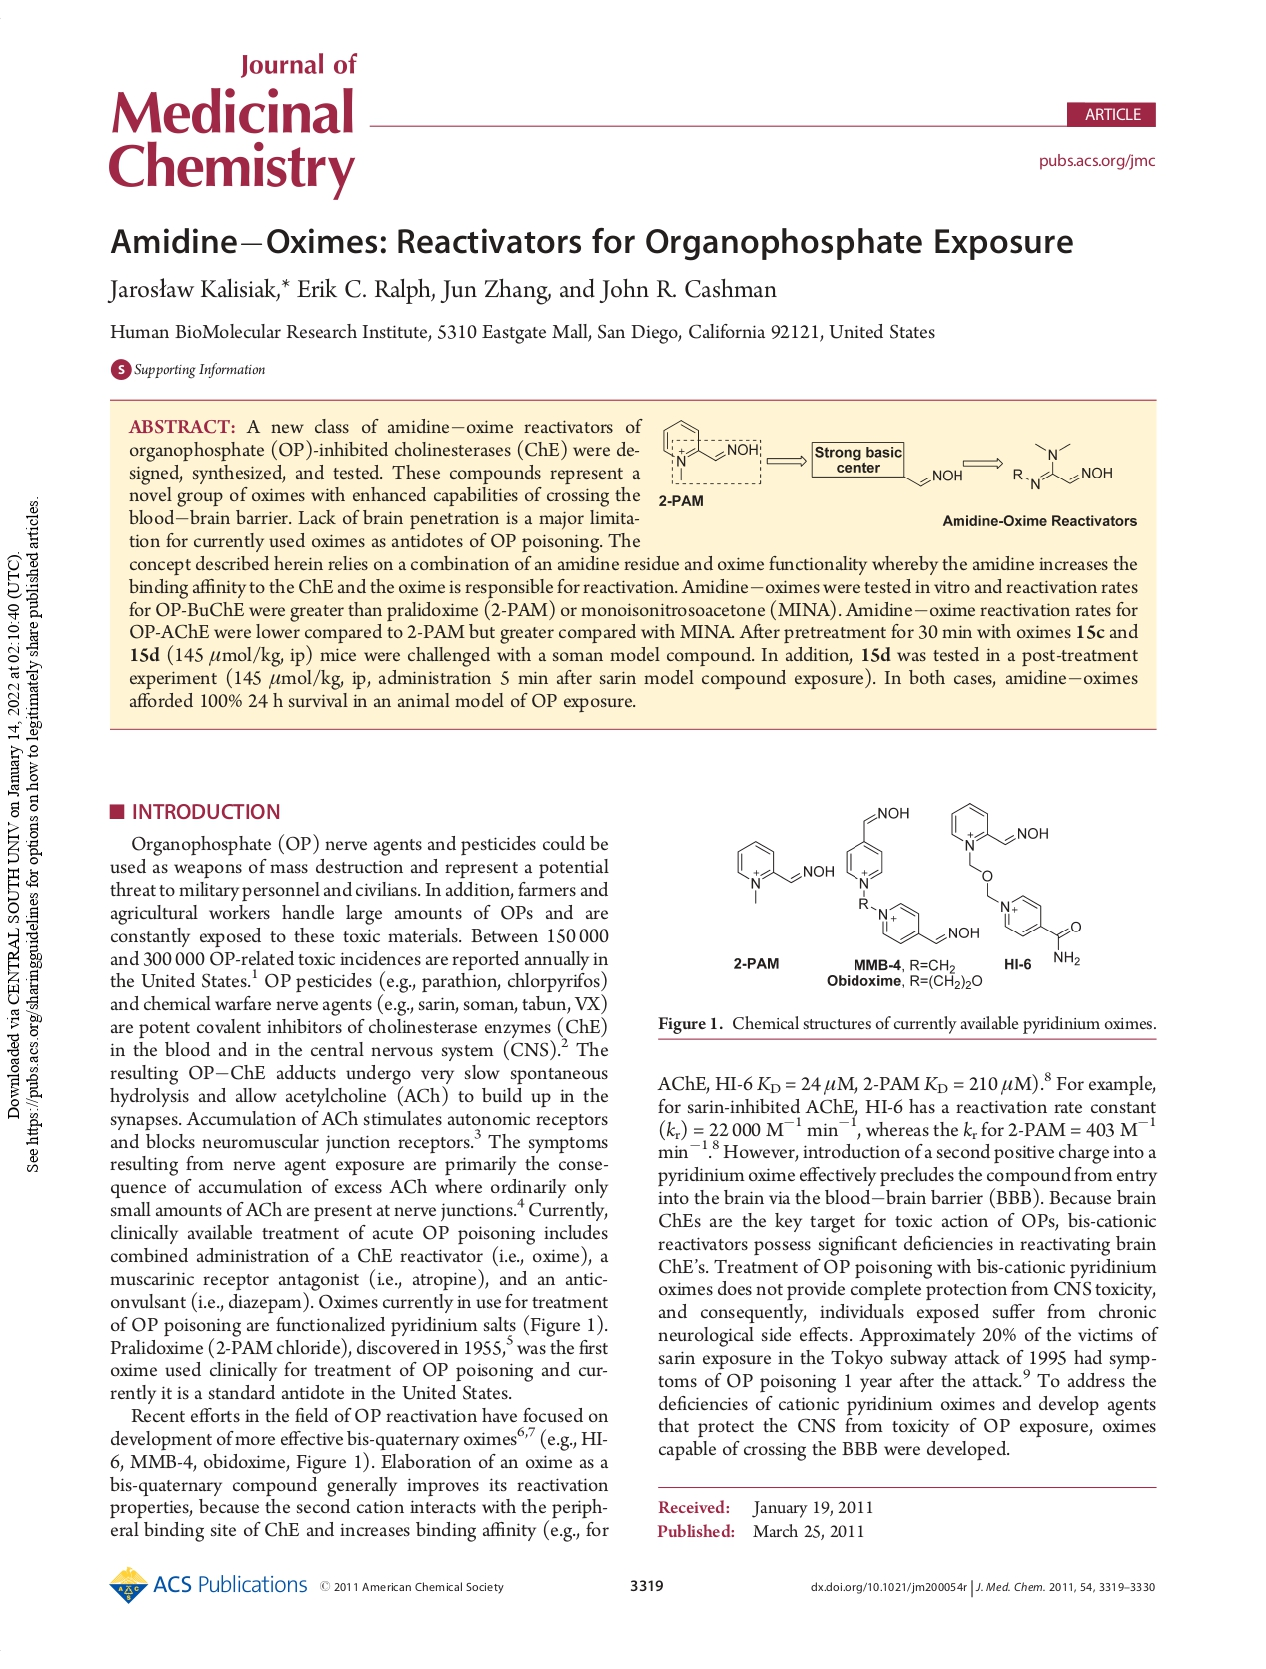exist_molecular: (949, 802, 1084, 967), (843, 803, 983, 946), (734, 835, 836, 904), (660, 418, 761, 481), (1009, 438, 1118, 492)
